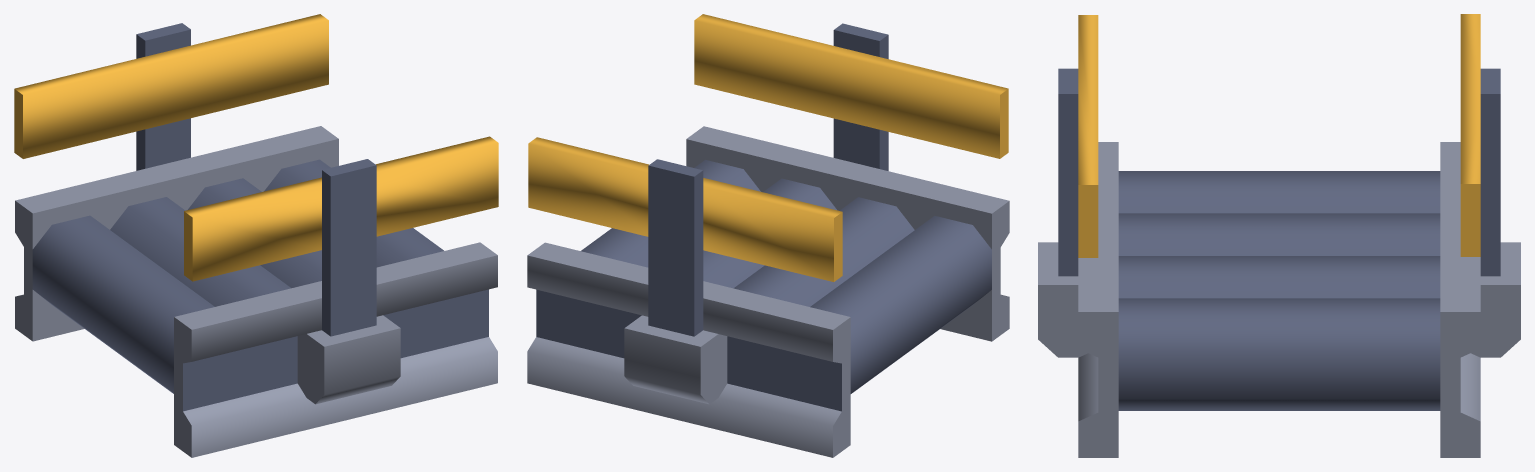
The model's file is conveyor-bars-fence.dae.
3 views of the same model, side by side, from view 1: azimuth 30°, elevation 25°; view 2: azimuth 150°, elevation 25°; view 3: azimuth 270°, elevation 25° (orthographic). The views are drawn at different scales.
Visible parts, largest first — view 1: Group (×3); view 2: Group (×3); view 3: Group (×3).
Boxes of the visible parts, left/top/right/bottom form: Group (×3): left=14, top=14, right=498, bottom=457; Group (×3): left=527, top=14, right=1009, bottom=457; Group (×3): left=1038, top=14, right=1520, bottom=457.
Bounding box in the file's own units: 1.01 × 0.8 × 1.2.
